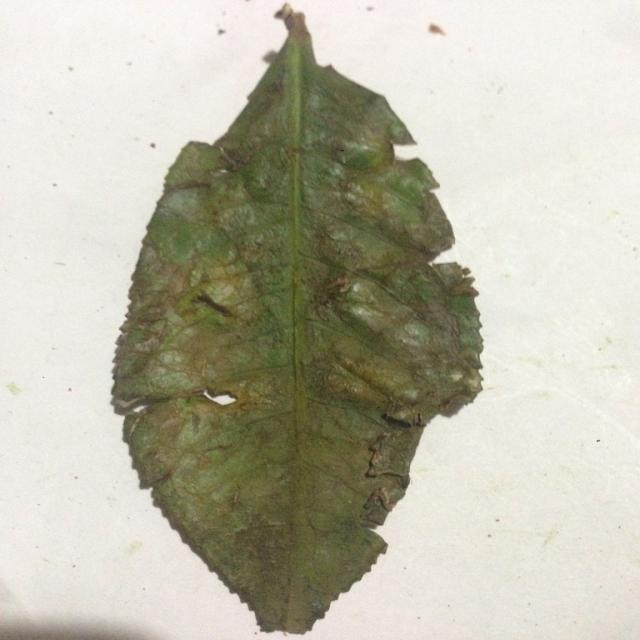Red Leaf Spot: (101, 9, 500, 638)
